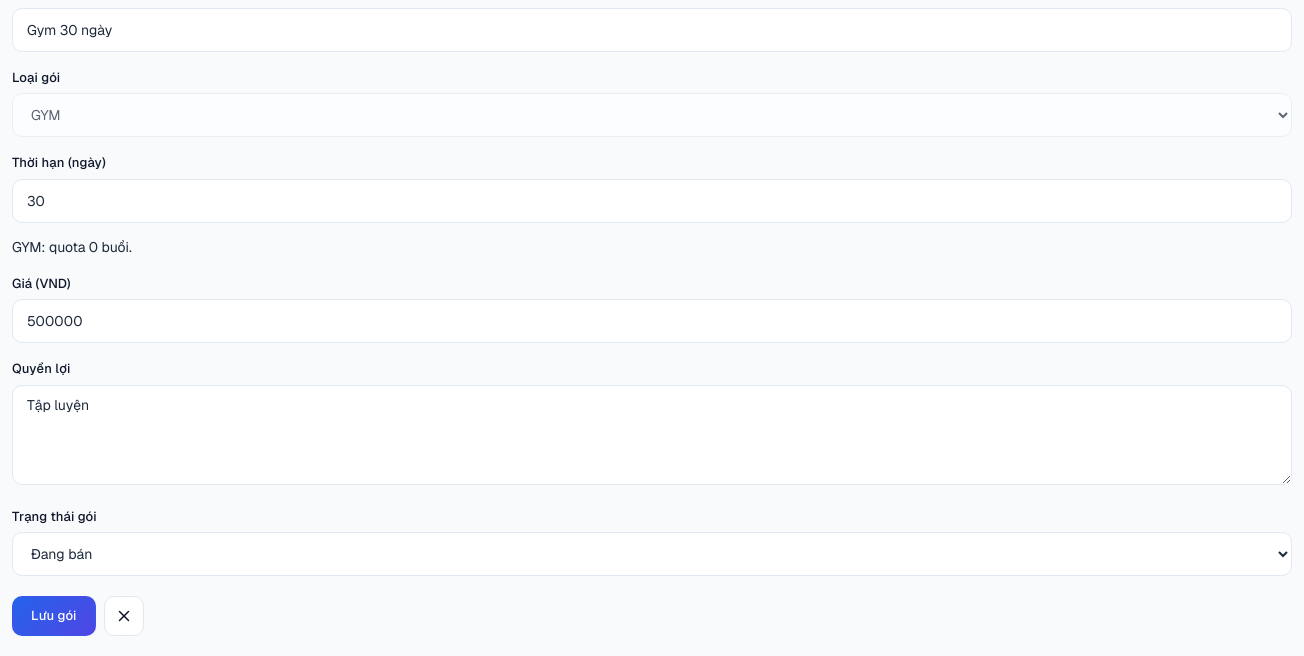
Test: US-12 TC15: catalog and forms › 400 field error appears beside input and preserves draft
(page scrolled)
Click the button "Lưu gói". click: coordinates (54, 616)
box: top-left (12, 596), bottom-right (96, 636)
(page scrolled)
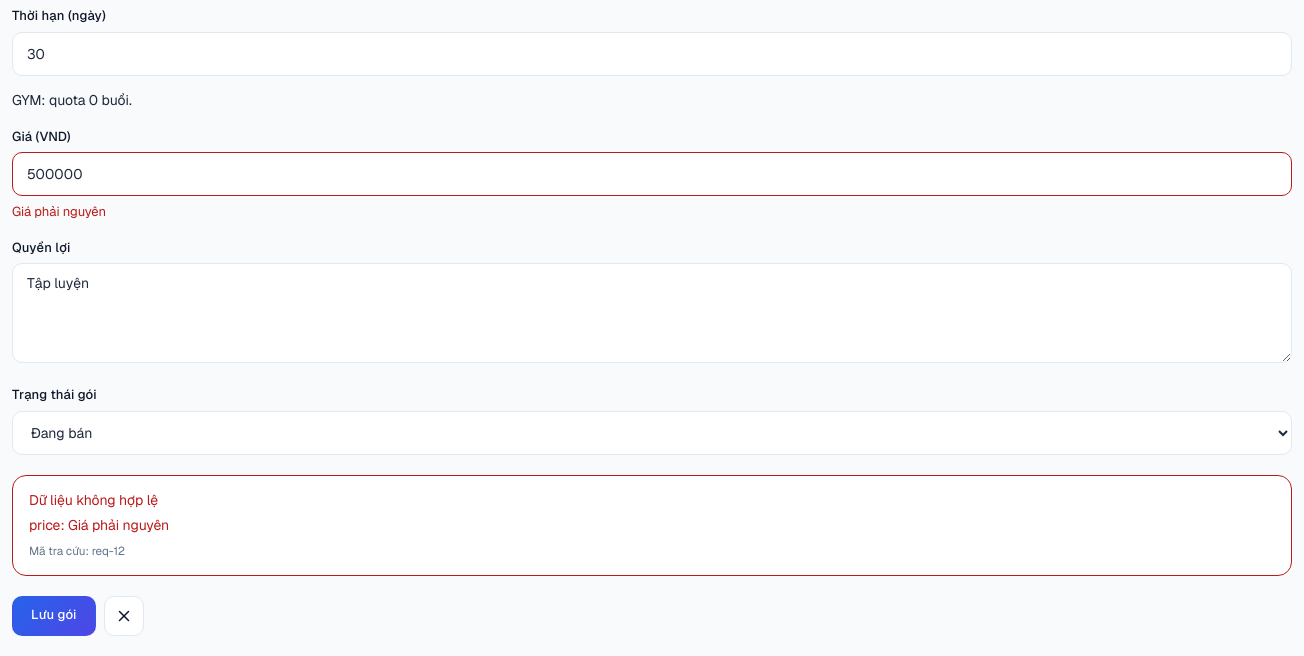
Expected: the field labelled "Giá (VND)" holds "500000", top-left (12, 152), bottom-right (1292, 196)
Result: the message "Dữ liệu không hợp lệ price: Giá phải nguyên Mã tra cứu: req-12" is shown at top-left (12, 475), bottom-right (1292, 576)
Result: the text "Mã tra cứu: req-12" is shown at top-left (29, 543), bottom-right (125, 558)
